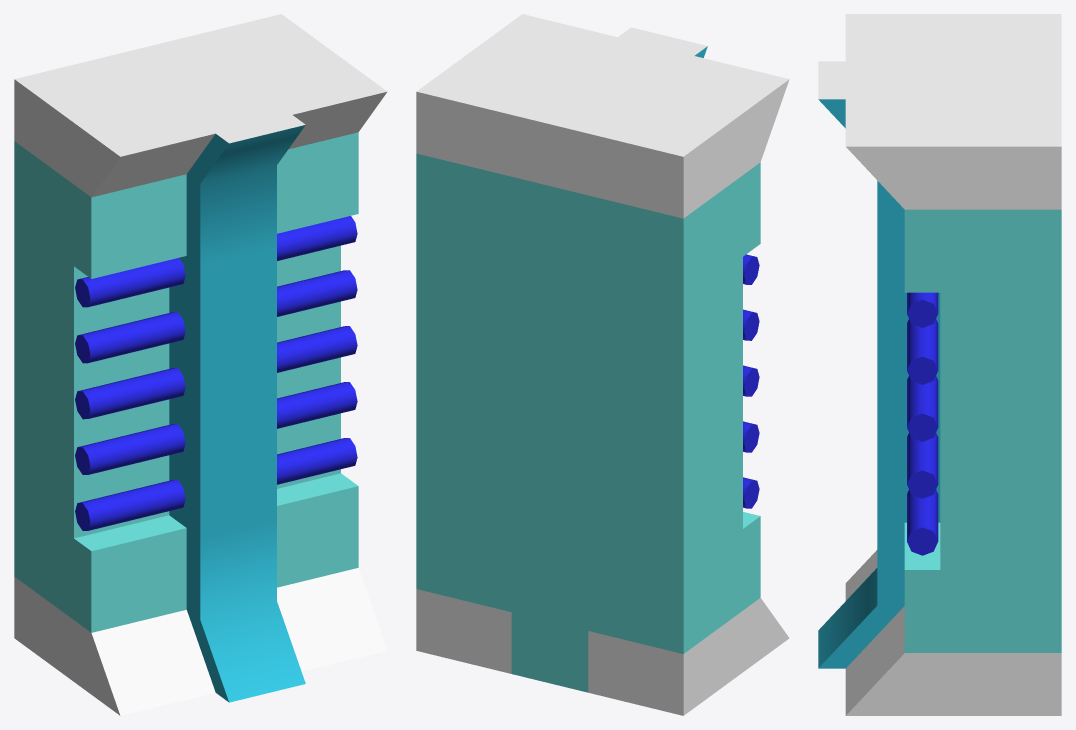
File: WallColumn.fbx
The picture shows the model from 3 angles, left to right: view 1: azimuth 30°, elevation 25°; view 2: azimuth 150°, elevation 25°; view 3: azimuth 270°, elevation 25°; orthographic projection.
Visible parts, largest first — view 1: Column; view 2: Column; view 3: Column.
Boxes of the visible parts, x1,y1,x2,y2 form: Column: (14,14,387,715); Column: (416,14,789,715); Column: (818,14,1061,715).
Bounding box in the file's own units: 78.74 × 157 × 61.07.
